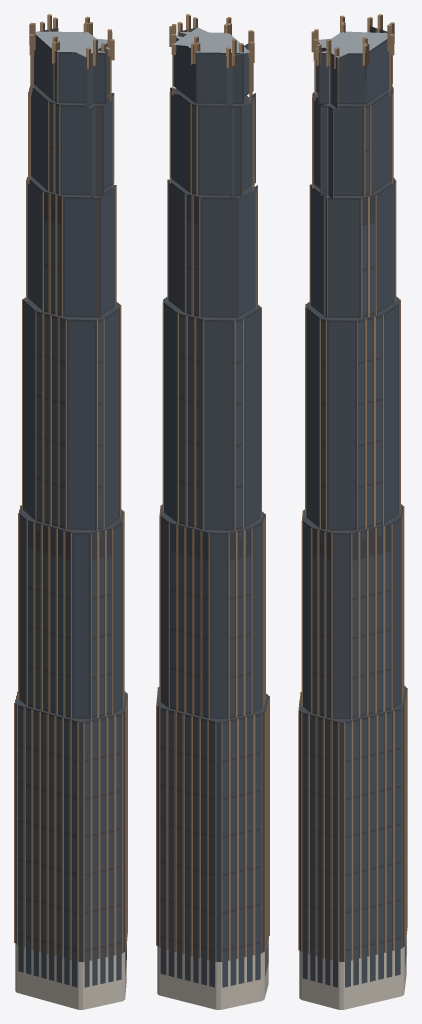
Rendered from nyc-brooklyn-tower.glb.
3 views of the same model, side by side, from view 1: azimuth 30°, elevation 25°; view 2: azimuth 210°, elevation 25°; view 3: azimuth 270°, elevation 25° (orthographic).
Parts seen in each view (by area): view 1: The Brooklyn Tower; view 2: The Brooklyn Tower; view 3: The Brooklyn Tower.
Part boxes in pixels (<box>): The Brooklyn Tower: <box>14,14,127,1009</box>; The Brooklyn Tower: <box>156,14,269,1009</box>; The Brooklyn Tower: <box>298,14,407,1009</box>.
Bounding box in the file's own units: 33.59 × 320 × 33.08.
